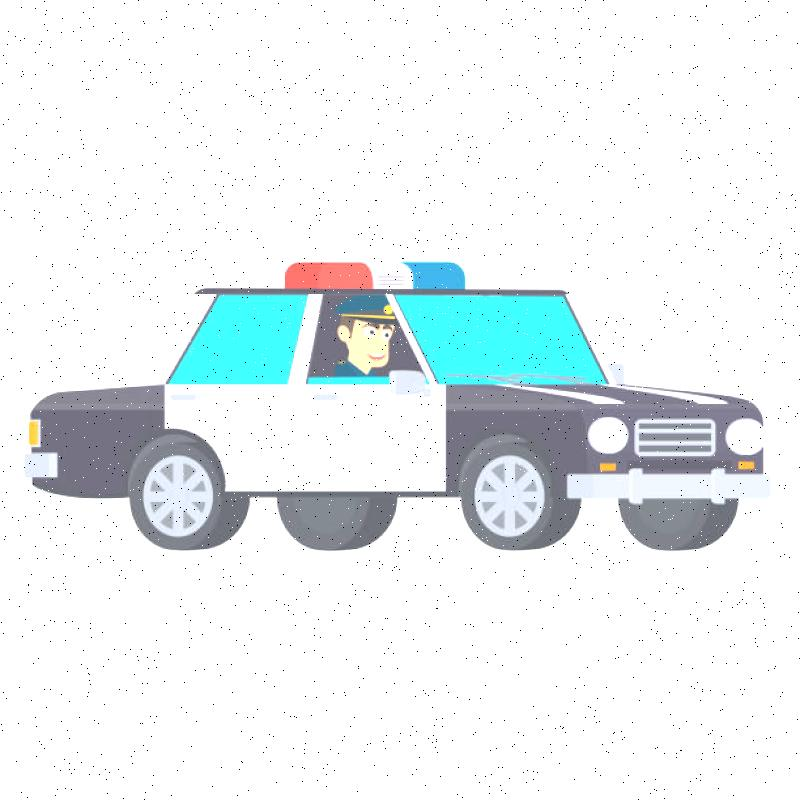AmbulanceSiren: (280, 252, 482, 320)
